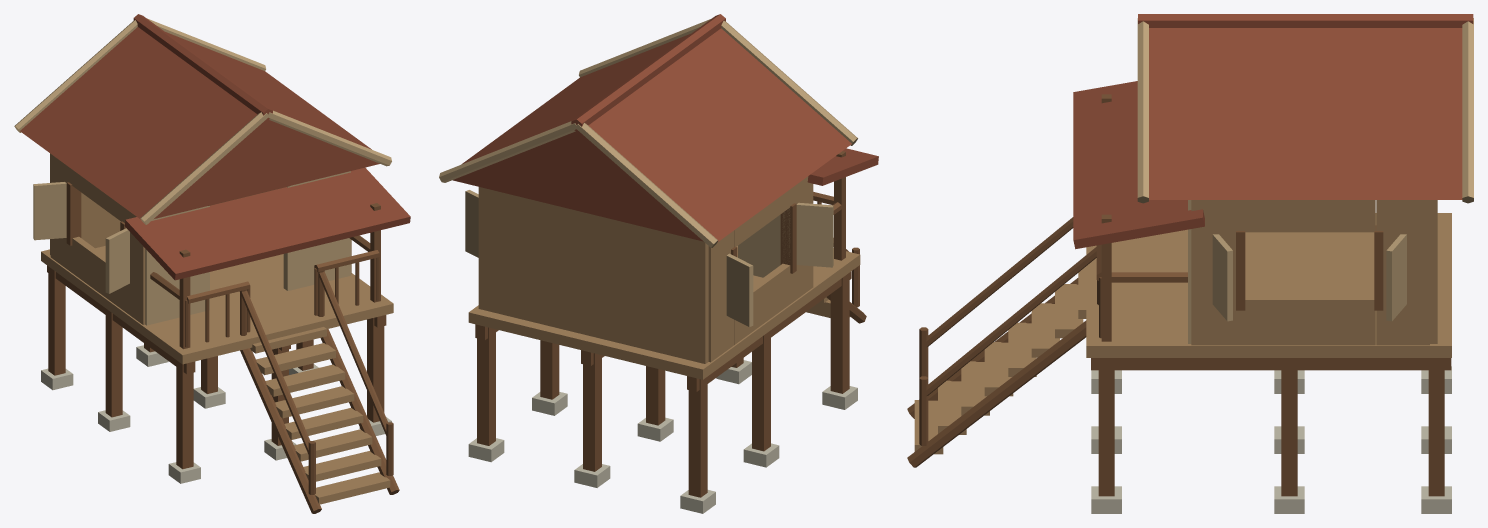
Rendered from house-normal.glb.
The picture shows the model from 3 angles, left to right: view 1: azimuth 30°, elevation 25°; view 2: azimuth 150°, elevation 25°; view 3: azimuth 270°, elevation 25°; orthographic projection. The views are drawn at different scales.
Parts seen in each view (by area): view 1: house; view 2: house; view 3: house.
Part boxes in pixels (x1=…): house: x1=14, y1=14, x2=410, y2=513; house: x1=439, y1=14, x2=878, y2=513; house: x1=907, y1=14, x2=1473, y2=513.
Size of the model in its own units: 3.86 by 4.71 by 5.58.
